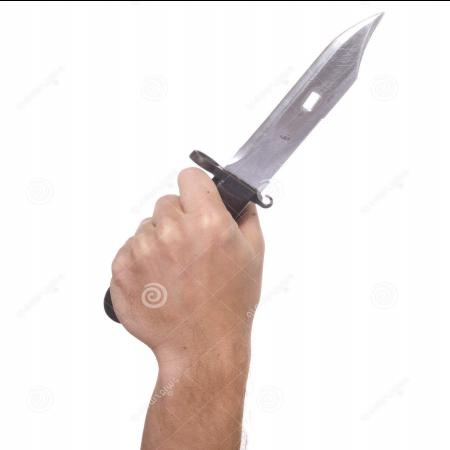long weapon: (132, 6, 390, 280)
